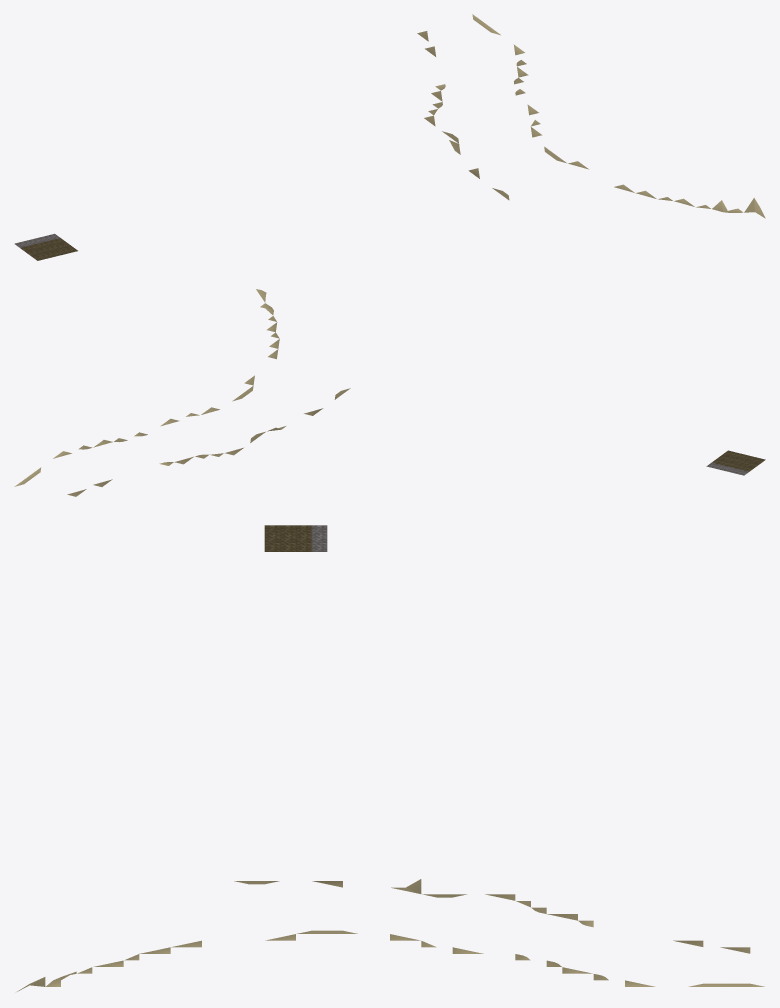
3 renders of one model, top to bottom at view 1: azimuth 30°, elevation 25°; view 2: azimuth 150°, elevation 25°; view 3: azimuth 270°, elevation 25°, orthographic. The views are drawn at different scales.
Visible parts, largest first — view 1: model; view 2: model; view 3: model.
Boxes of the visible parts, x1,y1,x2,y2 form: model: [14, 14, 765, 260]; model: [14, 289, 765, 496]; model: [17, 525, 764, 991].
Bounding box in the file's own units: 62 × 4.06 × 48.
Materials: 3 (2 with a texture image).
